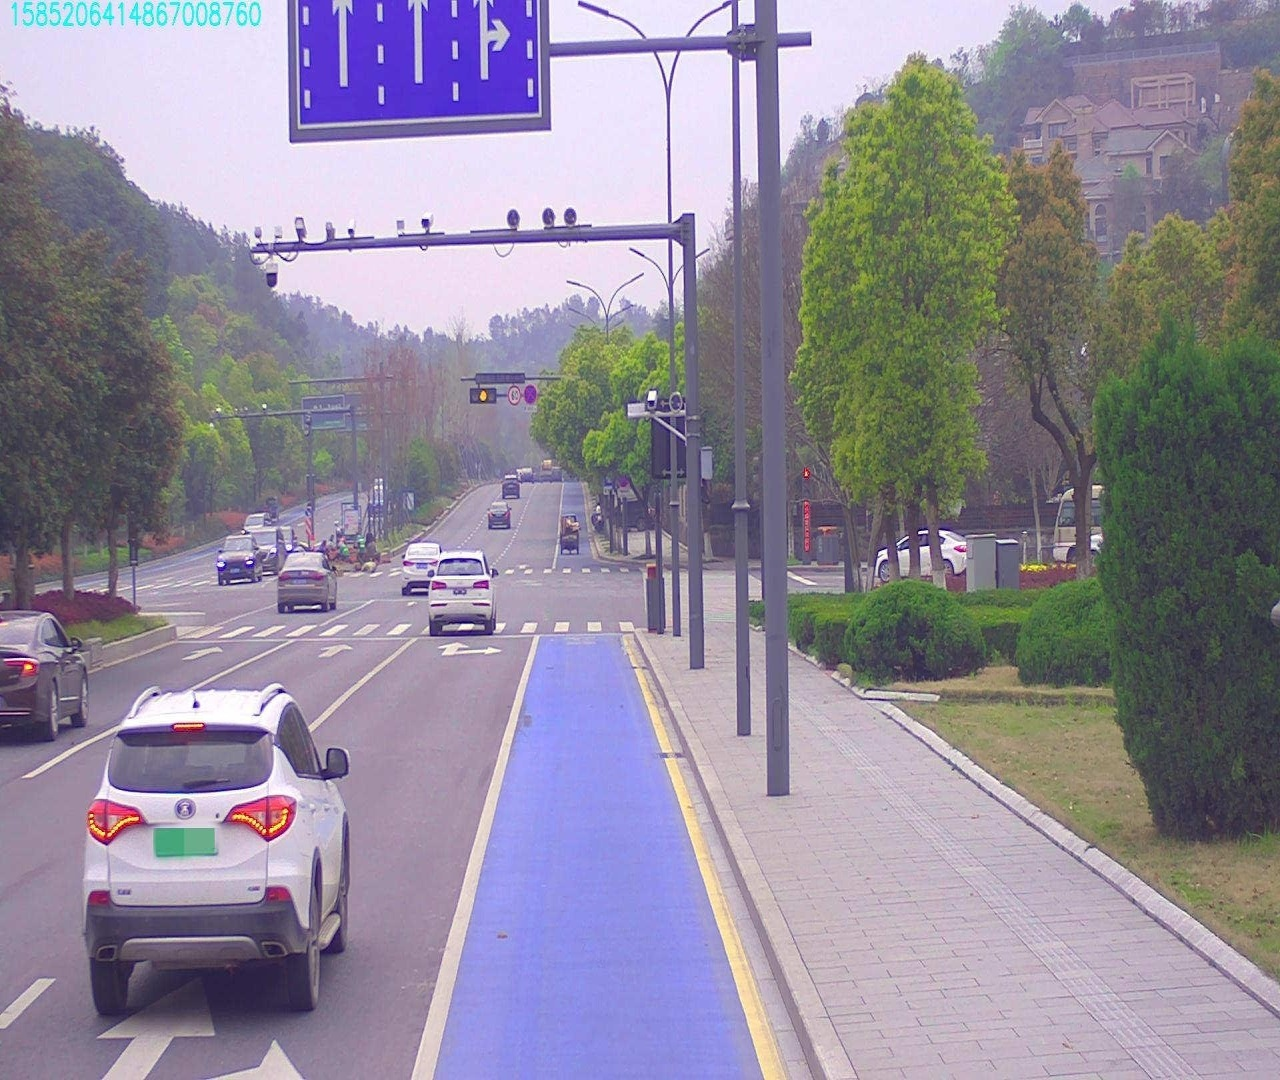yellow: (469, 382, 497, 405)
